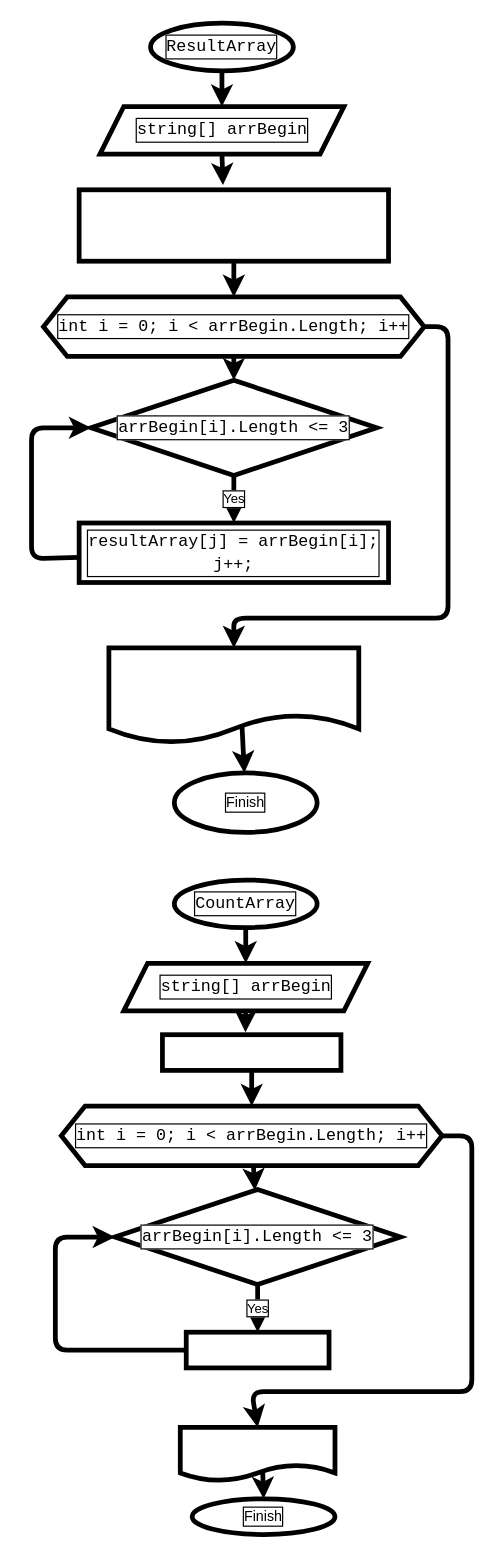
Some shapes in this 503 by 1557 pixel diagram are drawn without their labels. Here are the shapes that lost their labels. From the top down, the centre of each, then its label:
At point (233, 225): "string [] resultArray = new string [ CountArray ( arrBegin )]; int j = 0 ;".
At point (233, 695): "return resultArray ;".
At point (251, 1052): "int count = 0 ;".
At point (257, 1349): "count ++;".
At point (257, 1453): "return count ;".
